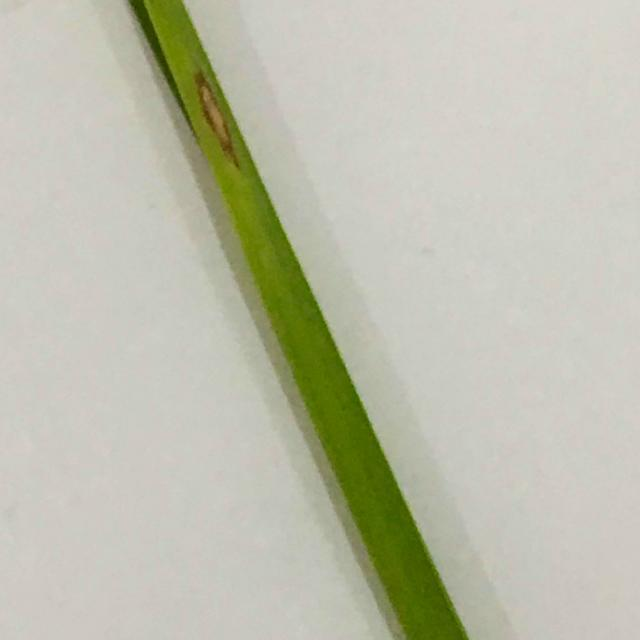Blast: (191, 84, 238, 156)
